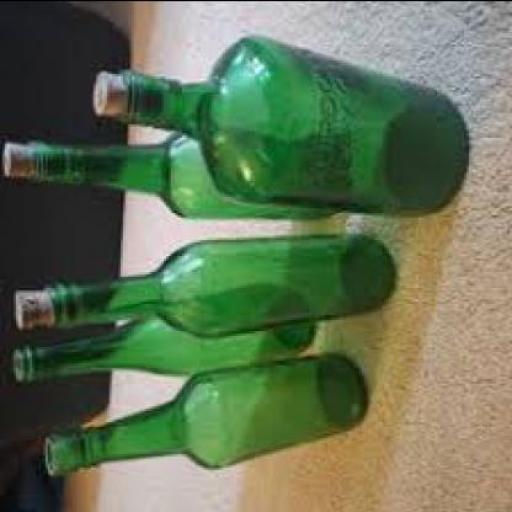glass: (116, 38, 468, 214), (38, 355, 368, 478), (41, 237, 396, 339), (10, 284, 314, 386), (24, 137, 334, 220)
